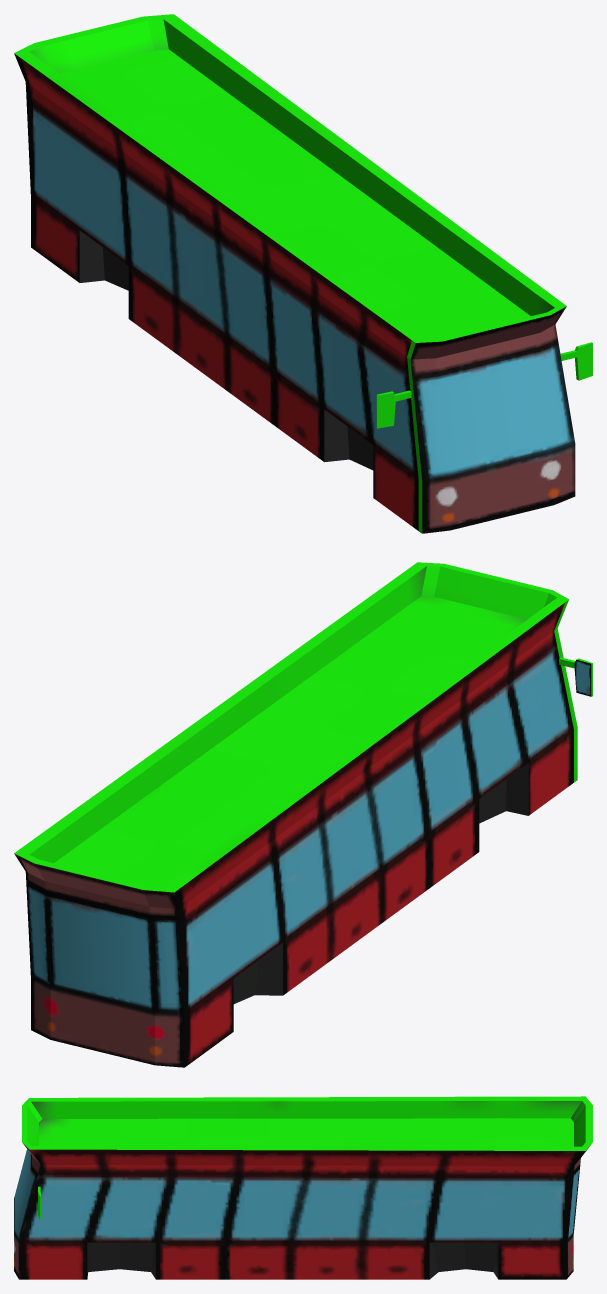
File: RusseBuss.glb
3 renders of one model, top to bottom at view 1: azimuth 30°, elevation 25°; view 2: azimuth 150°, elevation 25°; view 3: azimuth 270°, elevation 25°, orthographic. The views are drawn at different scales.
Visible parts, largest first — view 1: RusseBuss; view 2: RusseBuss; view 3: RusseBuss.
Boxes of the visible parts, x1,y1,x2,y2 form: RusseBuss: (14, 14, 592, 533); RusseBuss: (14, 562, 592, 1067); RusseBuss: (14, 1096, 592, 1279).
Size of the model in its own units: 33.78 by 27.69 by 112.
1 material, 1 textured.
